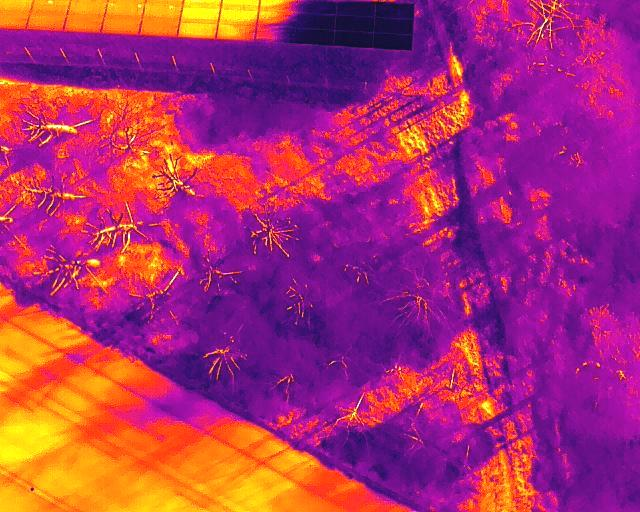Cell: (143, 6, 181, 21)
Cell-Multi: (106, 3, 144, 18)
No-Anomaly: (64, 12, 103, 32), (29, 11, 66, 31), (216, 24, 256, 41), (177, 23, 216, 39), (178, 8, 219, 22), (218, 9, 259, 23), (103, 19, 141, 34), (140, 21, 177, 36)
Shadowing: (374, 3, 413, 20), (373, 19, 413, 35), (295, 29, 334, 45), (373, 34, 412, 50), (335, 17, 375, 32), (336, 1, 375, 16), (296, 14, 336, 28), (334, 33, 374, 47), (256, 12, 296, 26), (255, 27, 295, 40), (299, 0, 336, 13)
